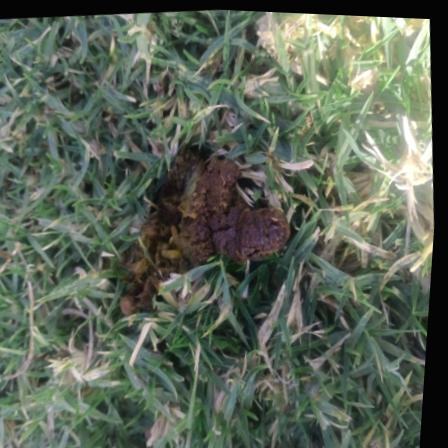dog-poop: (106, 125, 299, 322)
